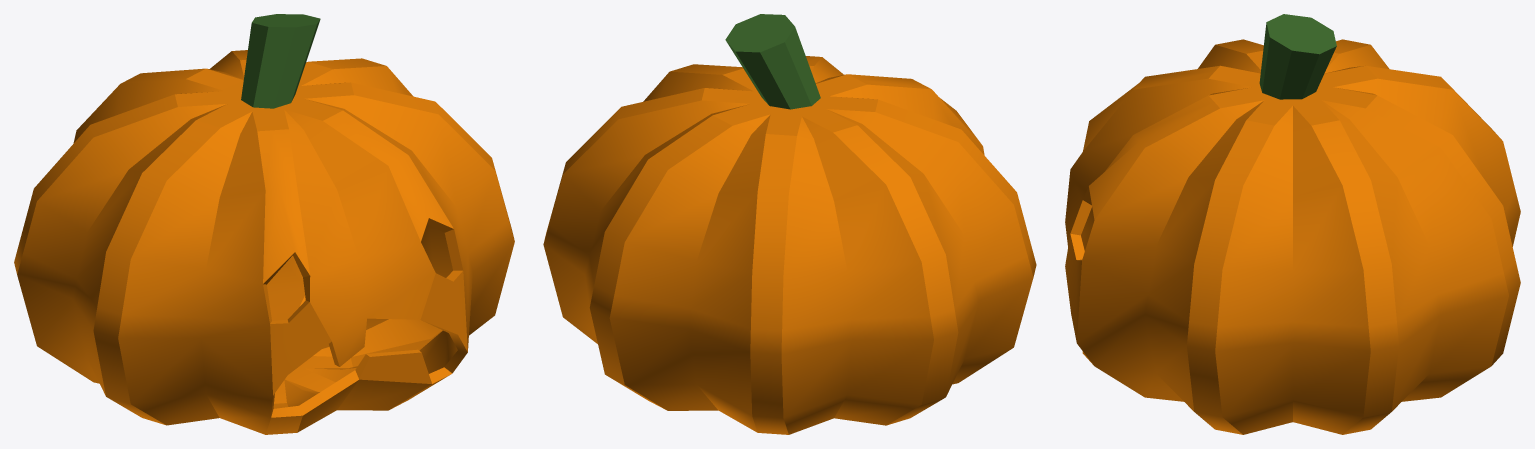
The model's file is Pumpkin_Sad_Bob.fbx.
3 views of the same model, side by side, from view 1: azimuth 30°, elevation 25°; view 2: azimuth 150°, elevation 25°; view 3: azimuth 270°, elevation 25° (orthographic). The views are drawn at different scales.
Visible parts, largest first — view 1: pCylinder2; view 2: pCylinder2; view 3: pCylinder2.
Boxes of the visible parts, x1,y1,x2,y2 form: pCylinder2: (14, 14, 514, 434); pCylinder2: (543, 14, 1036, 434); pCylinder2: (1065, 14, 1520, 434).
Size of the model in its own units: 3.75 by 3.05 by 3.47.
